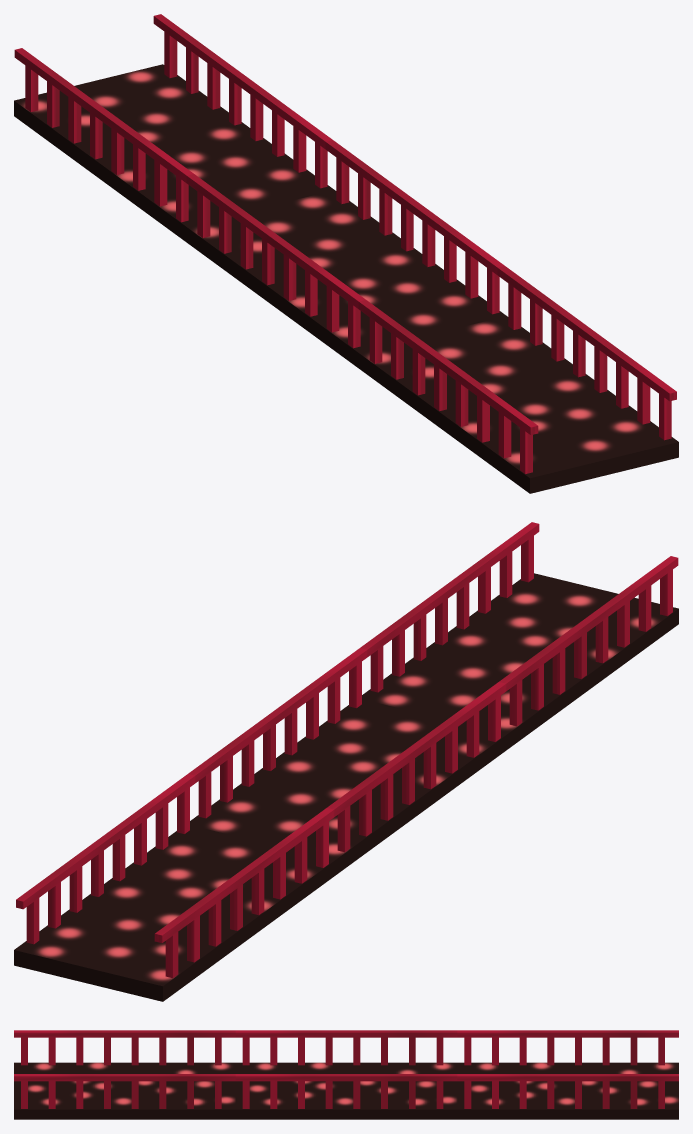
The model's file is PathwWayMedium.fbx.
3 renders of one model, top to bottom at view 1: azimuth 30°, elevation 25°; view 2: azimuth 150°, elevation 25°; view 3: azimuth 270°, elevation 25°, orthographic. The views are drawn at different scales.
Parts seen in each view (by area): view 1: Path.002, Path, Path.001, RailingL.002, RailingR.002, RailingL, RailingL.001, RailingR, RailingR.001; view 2: Path.001, Path, Path.002, RailingL.001, RailingR.001, RailingL, RailingL.002, RailingR.002, RailingR; view 3: Path, Path.001, Path.002, RailingL, RailingL.001, RailingL.002, RailingR, RailingR.001, RailingR.002.
Boxes of the visible parts, x1=… form: Path.002: x1=358, y1=316, x2=678, y2=493; Path: x1=186, y1=190, x2=506, y2=367; Path.001: x1=14, y1=64, x2=334, y2=241; RailingL.002: x1=358, y1=300, x2=538, y2=473; RailingR.002: x1=497, y1=266, x2=676, y2=440; RailingL: x1=186, y1=174, x2=365, y2=348; RailingL.001: x1=14, y1=48, x2=193, y2=222; RailingR: x1=325, y1=140, x2=504, y2=314; RailingR.001: x1=153, y1=14, x2=332, y2=188; Path.001: x1=14, y1=825, x2=334, y2=1001; Path: x1=190, y1=699, x2=506, y2=875; Path.002: x1=362, y1=573, x2=678, y2=749; RailingL.001: x1=154, y1=808, x2=334, y2=978; RailingR.001: x1=16, y1=774, x2=195, y2=944; RailingL: x1=327, y1=682, x2=506, y2=852; RailingL.002: x1=499, y1=556, x2=678, y2=726; RailingR.002: x1=360, y1=522, x2=539, y2=692; RailingR: x1=188, y1=648, x2=367, y2=818; Path: x1=235, y1=1062, x2=457, y2=1119; Path.001: x1=457, y1=1062, x2=678, y2=1119; Path.002: x1=14, y1=1062, x2=235, y2=1119; RailingL: x1=235, y1=1030, x2=457, y2=1065; RailingL.001: x1=457, y1=1030, x2=678, y2=1065; RailingL.002: x1=14, y1=1030, x2=235, y2=1065; RailingR: x1=235, y1=1074, x2=457, y2=1108; RailingR.001: x1=457, y1=1074, x2=678, y2=1108; RailingR.002: x1=14, y1=1074, x2=235, y2=1108.
Size of the model in its own units: 600 by 255 by 3600.
